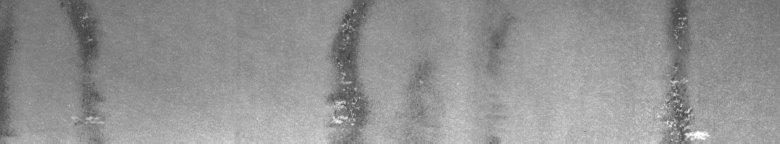hc: (324, 4, 423, 132)
